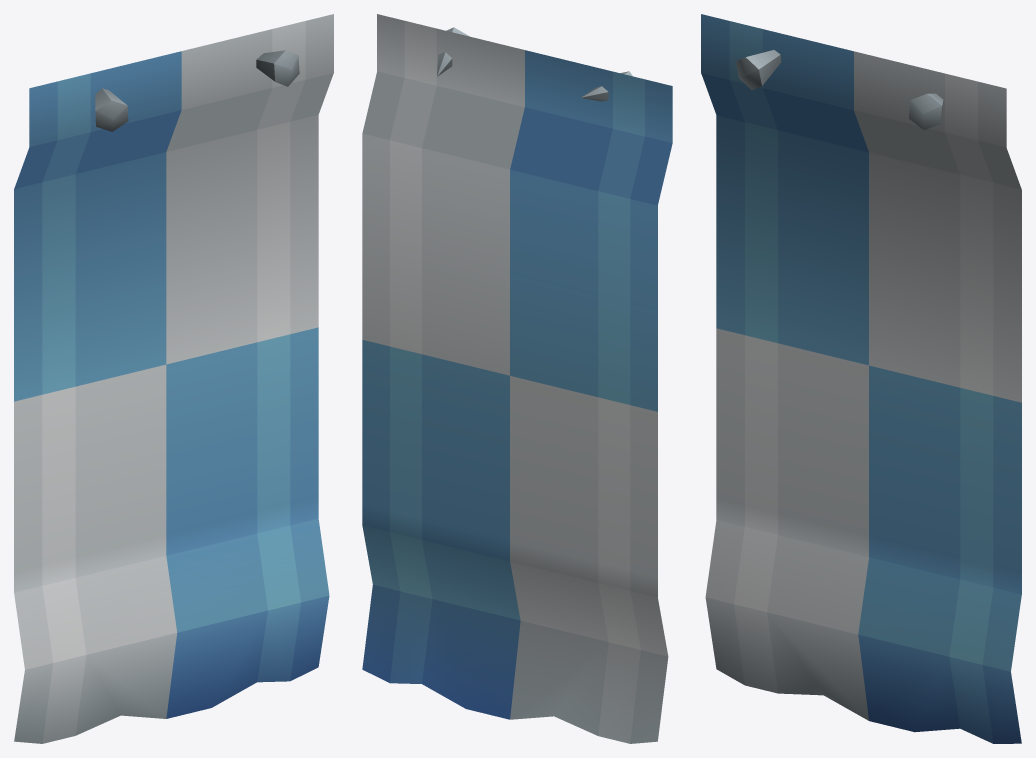
File: banner_patternA_blue.gltf
3 renders of one model, left to right at view 1: azimuth 30°, elevation 25°; view 2: azimuth 150°, elevation 25°; view 3: azimuth 330°, elevation 25°, orthographic. The views are drawn at different scales.
Parts seen in each view (by area): view 1: banner_patternA_blue; view 2: banner_patternA_blue; view 3: banner_patternA_blue.
Part boxes in pixels (left/top/right/bottom): banner_patternA_blue: left=14, top=14, right=333, bottom=743; banner_patternA_blue: left=362, top=14, right=672, bottom=743; banner_patternA_blue: left=701, top=14, right=1021, bottom=743.
Size of the model in its own units: 1.5 by 3.2 by 0.3119.
1 material, 1 textured.
